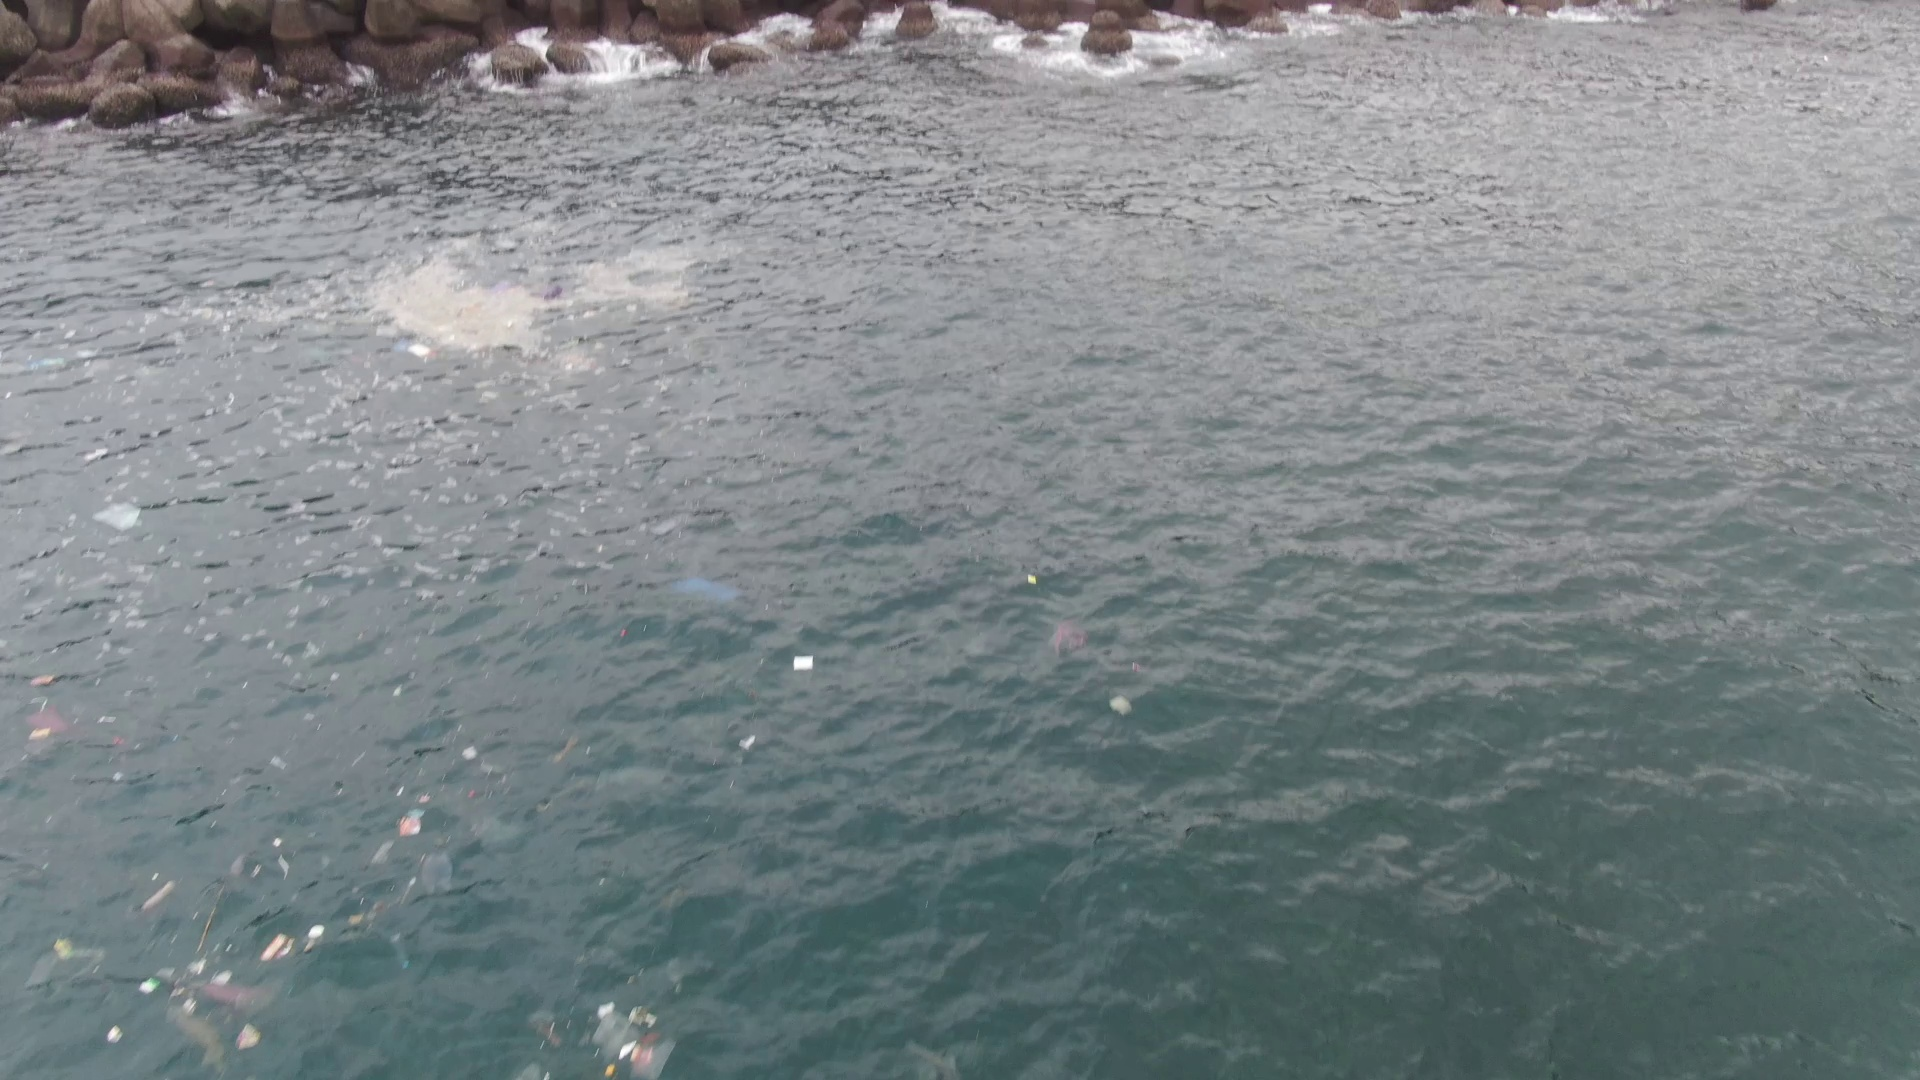bottle: (32, 357, 67, 371)
garbage: (57, 886, 302, 1065), (345, 799, 465, 947), (542, 996, 692, 1080), (460, 282, 543, 357), (11, 674, 69, 749), (669, 568, 745, 611), (91, 502, 142, 531), (556, 342, 597, 375), (1056, 620, 1091, 657), (394, 338, 438, 361), (556, 735, 578, 762), (1110, 696, 1131, 715), (793, 654, 814, 670), (740, 735, 757, 752), (109, 735, 127, 752), (616, 622, 629, 637), (194, 280, 215, 287), (1027, 570, 1036, 585), (1134, 661, 1141, 673)
